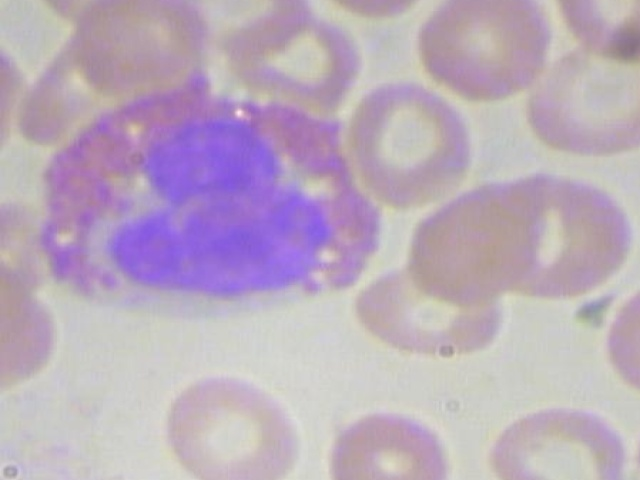RBC: (326, 73, 494, 217), (155, 369, 314, 480), (402, 176, 538, 303), (402, 0, 559, 104), (517, 35, 640, 156), (308, 390, 467, 480), (480, 397, 639, 480), (586, 267, 640, 407), (540, 0, 640, 66)
WBC: (18, 89, 392, 312)
